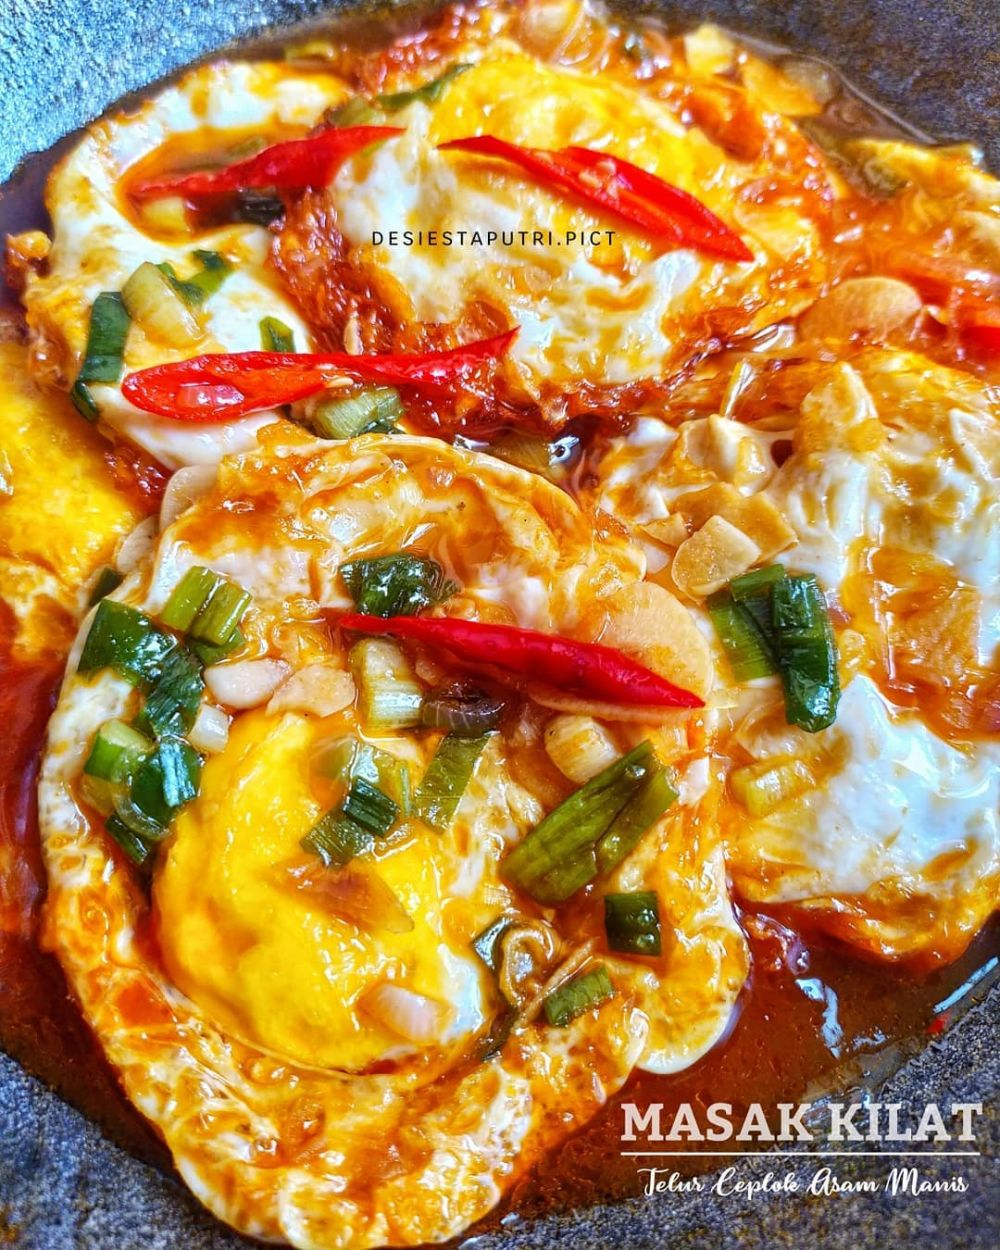Telur: (165, 514, 702, 1169), (298, 57, 812, 396)
